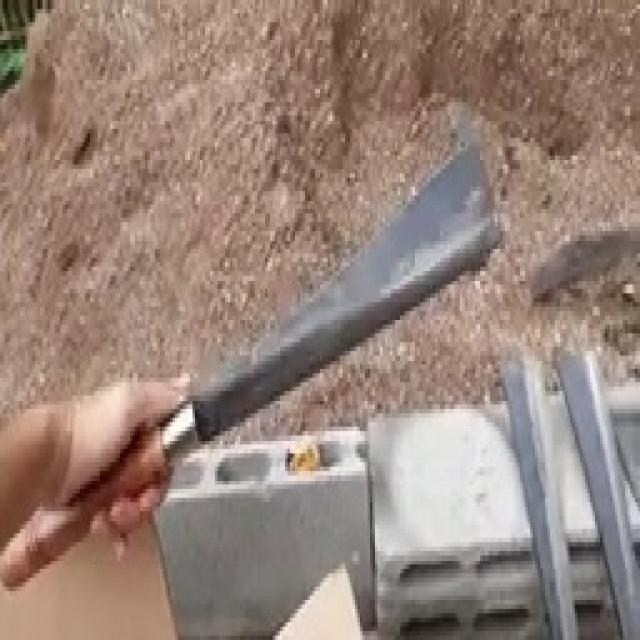eto: (0, 136, 506, 602)
